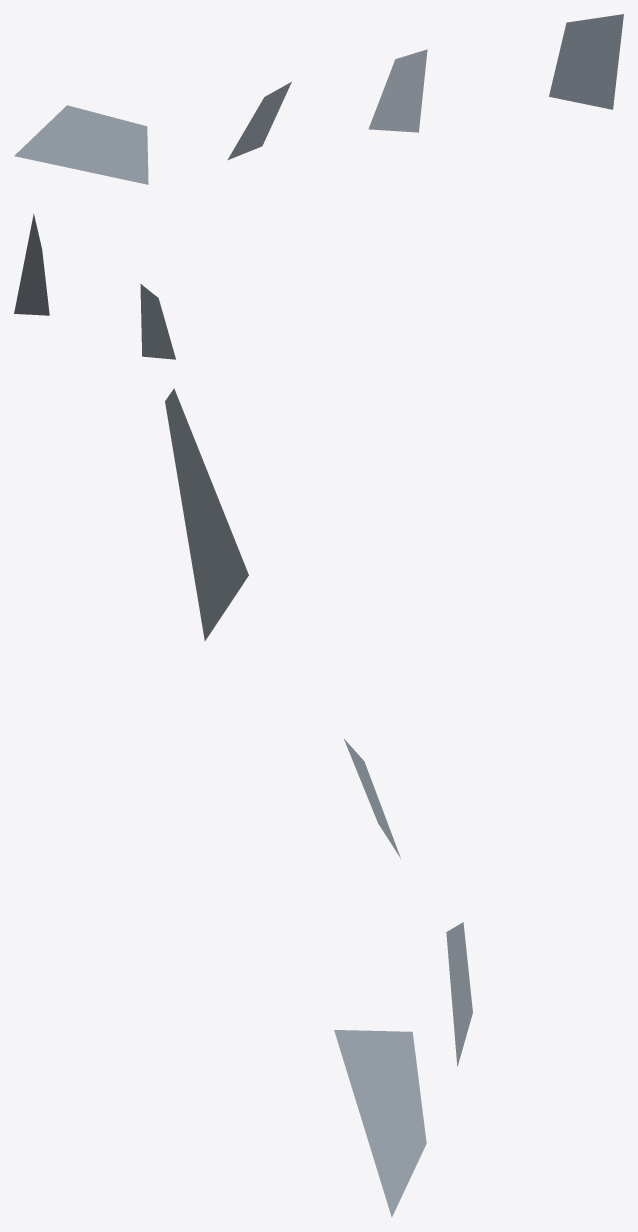
File: palmar-metacarpal-ligaments-r.glb
3 renders of one model, top to bottom at view 1: azimuth 30°, elevation 25°; view 2: azimuth 150°, elevation 25°; view 3: azimuth 270°, elevation 25°, orthographic. The views are drawn at different scales.
Visible parts, largest first — view 1: Palmar metacarpal ligaments.r; view 2: Palmar metacarpal ligaments.r; view 3: Palmar metacarpal ligaments.r.
Part boxes in pixels (x1,y1,x2,y2): Palmar metacarpal ligaments.r: (14,14,623,184); Palmar metacarpal ligaments.r: (14,213,175,359); Palmar metacarpal ligaments.r: (165,388,472,1217).
Size of the model in its own units: 0.0335 by 0.0097 by 0.00809.
